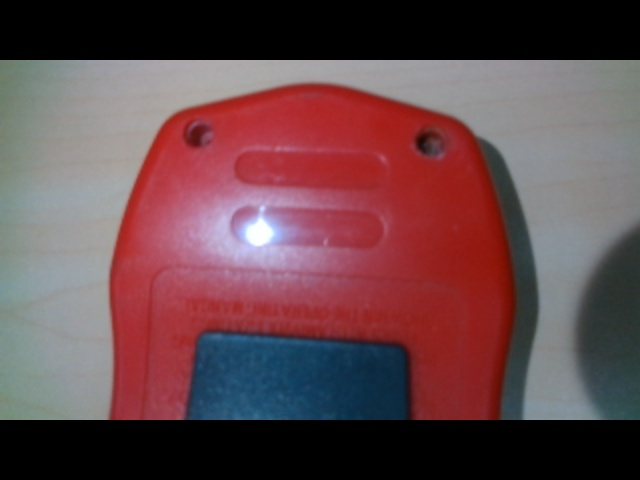Screw holes: (414, 123, 452, 162), (182, 117, 216, 148)
